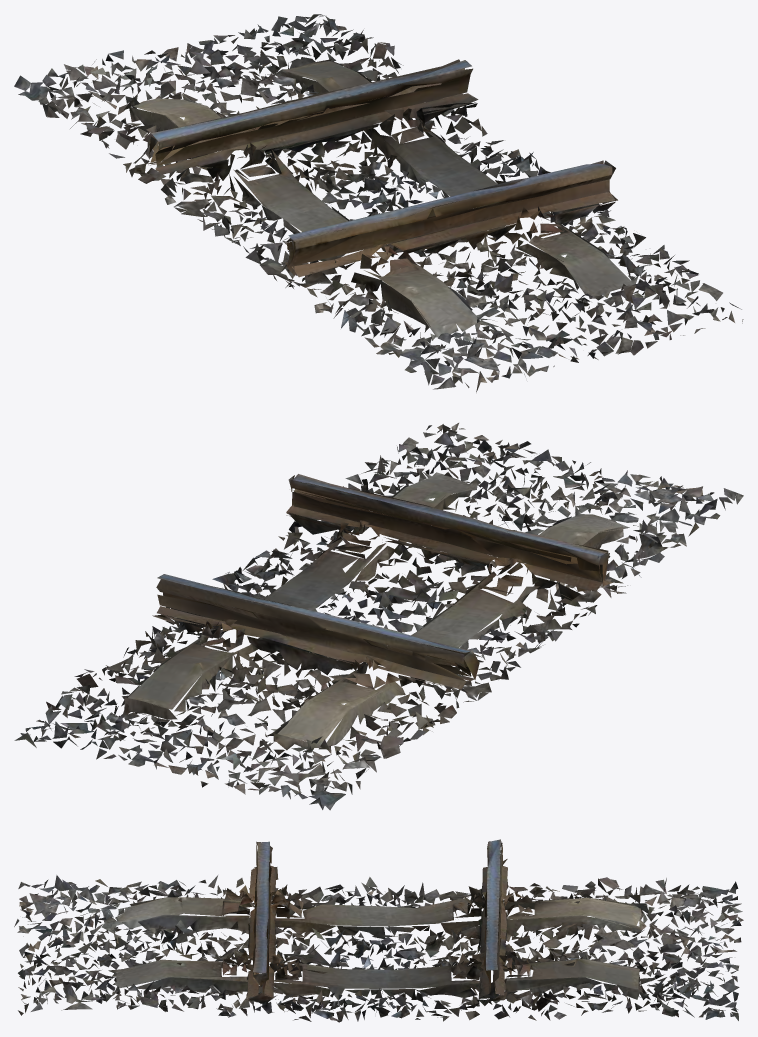
File: track.glb
The picture shows the model from 3 angles, top to bottom: view 1: azimuth 30°, elevation 25°; view 2: azimuth 150°, elevation 25°; view 3: azimuth 270°, elevation 25°; orthographic projection. The views are drawn at different scales.
Parts seen in each view (by area): view 1: track; view 2: track; view 3: track.
Part boxes in pixels (x1,y1,x2,y2): track: (14,14,743,392); track: (14,423,743,810); track: (14,839,743,1022).
Size of the model in its own units: 1.49 by 0.3154 by 3.39.
1 material, 1 textured.
